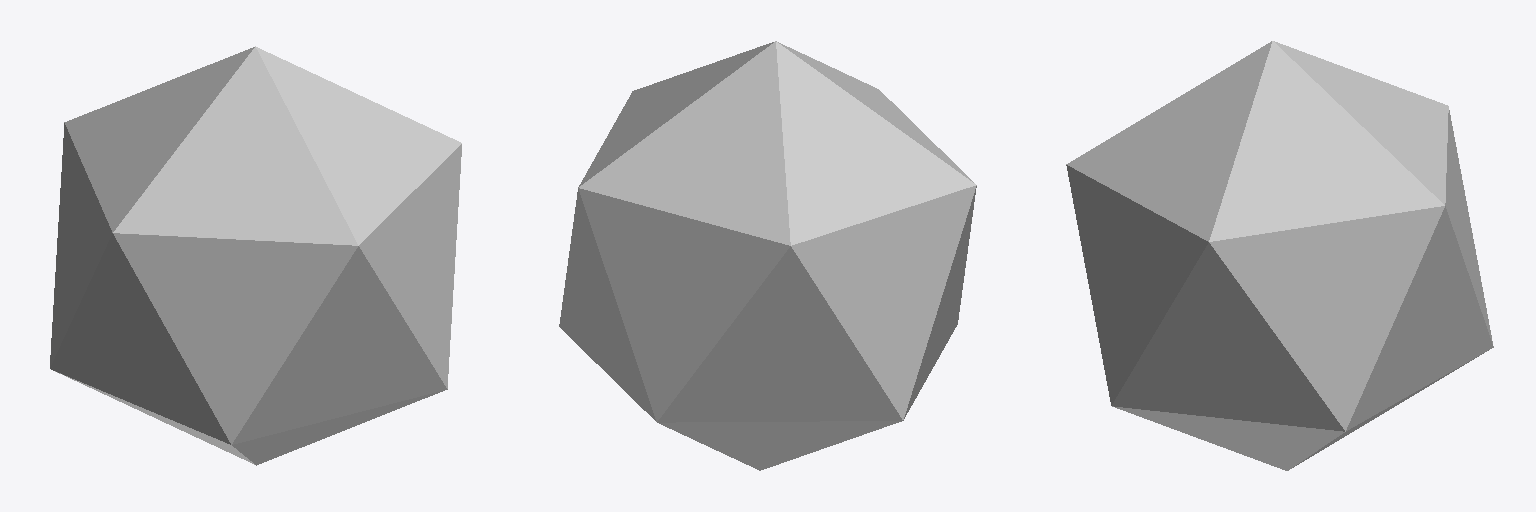
Rendered from icosahedron.obj.
3 renders of one model, left to right at view 1: azimuth 30°, elevation 25°; view 2: azimuth 150°, elevation 25°; view 3: azimuth 270°, elevation 25°, orthographic.
Visible parts, largest first — view 1: Mesh1_Group1_Model; view 2: Mesh1_Group1_Model; view 3: Mesh1_Group1_Model.
Part boxes in pixels (x1,y1,x2,y2): Mesh1_Group1_Model: (50, 46, 461, 465); Mesh1_Group1_Model: (559, 41, 976, 470); Mesh1_Group1_Model: (1066, 41, 1493, 470).
Size of the model in its own units: 1.64 by 1.9 by 1.73.